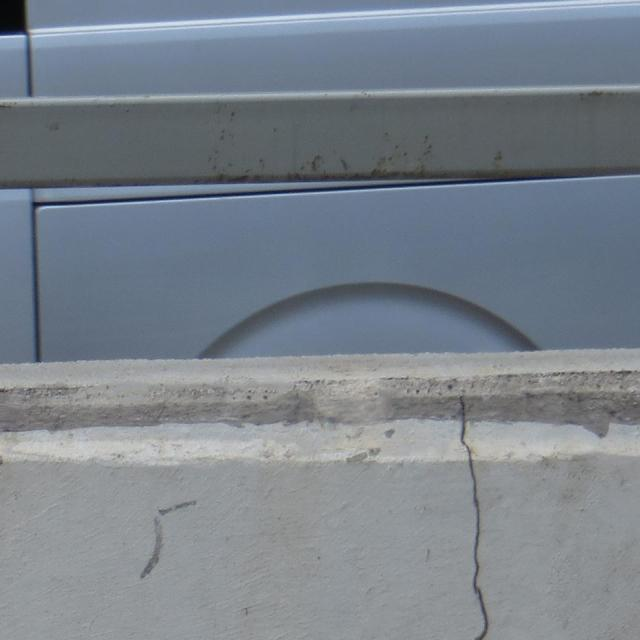vertical crack: (456, 395, 489, 639)
